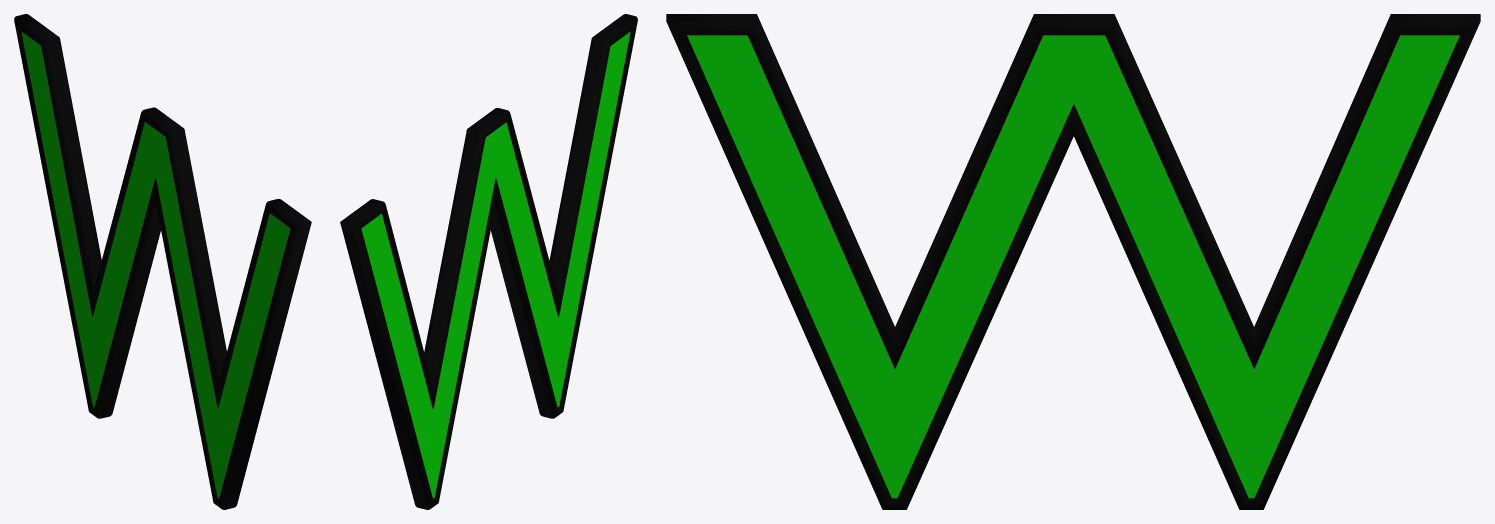
Rendered from wLetter.fbx.
3 views of the same model, side by side, from view 1: azimuth 30°, elevation 25°; view 2: azimuth 150°, elevation 25°; view 3: azimuth 270°, elevation 25° (orthographic). The views are drawn at different scales.
Visible parts, largest first — view 1: W; view 2: W; view 3: W.
Boxes of the visible parts, <box> form: W: <box>14,14,311,509</box>; W: <box>340,14,637,509</box>; W: <box>666,14,1480,509</box>.
Bounding box in the file's own units: 0.08 × 1.42 × 2.14.
